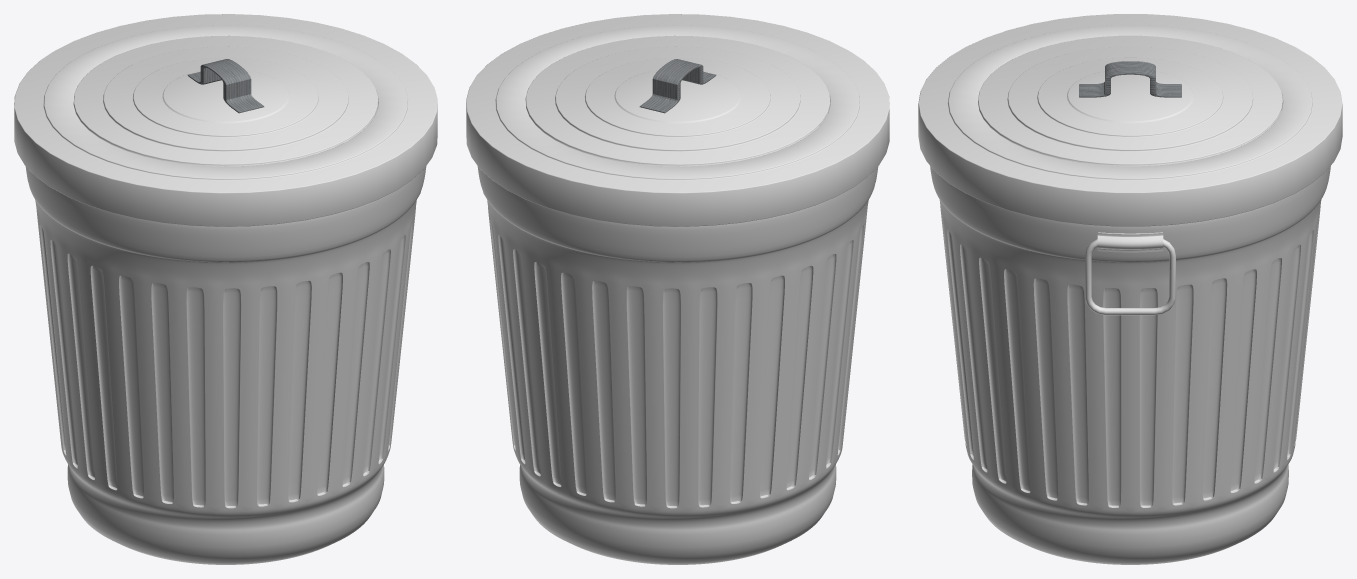
Rendered from trash bin.fbx.
3 renders of one model, left to right at view 1: azimuth 30°, elevation 25°; view 2: azimuth 150°, elevation 25°; view 3: azimuth 270°, elevation 25°, orthographic.
Parts seen in each view (by area): view 1: Cylinder, Circle, Cube; view 2: Cylinder, Circle, Cube; view 3: Cylinder, Circle, Cube, Plane, Cylinder.001.
Part boxes in pixels (x1,y1,x2,y2): Cylinder: (25,166,426,564); Circle: (14,14,437,226); Cube: (187,59,264,113); Cylinder: (477,166,878,564); Circle: (466,14,889,226); Cube: (639,59,716,113); Cylinder: (930,166,1330,564); Circle: (918,14,1342,226); Cube: (1079,61,1181,97); Plane: (1085,239,1175,315); Cylinder.001: (1097,232,1163,252).
Size of the model in its own units: 267 by 309 by 267.
